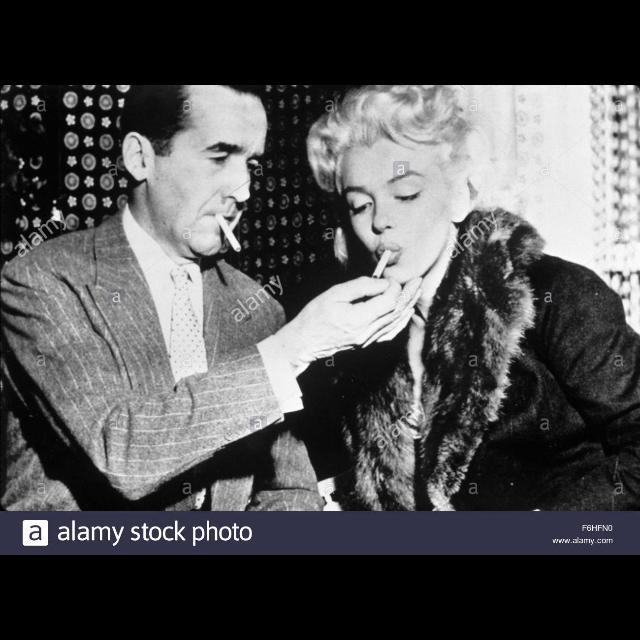rokok: (216, 214, 244, 254), (372, 250, 396, 280)
